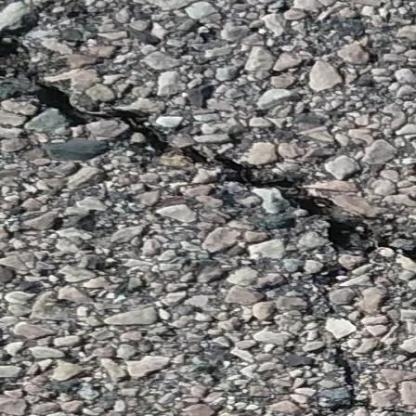Cracks: (0, 35, 416, 267)
